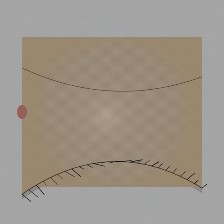pterygium_lesion: (23, 95, 64, 129)
